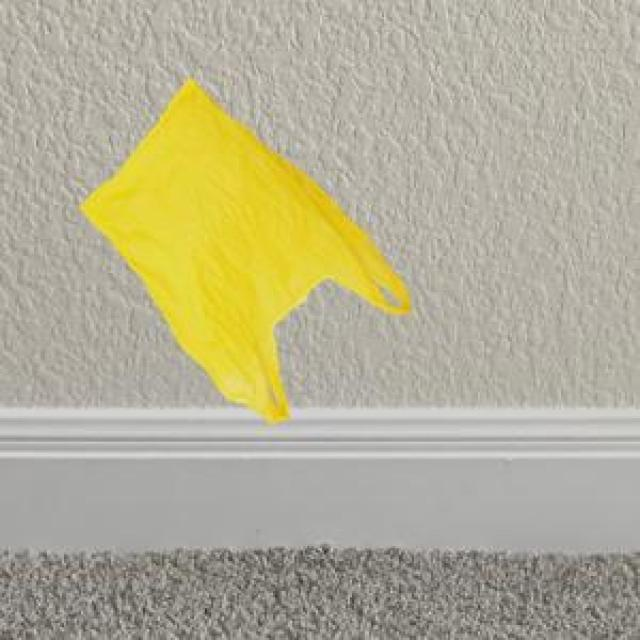plastic: (65, 60, 427, 488)
